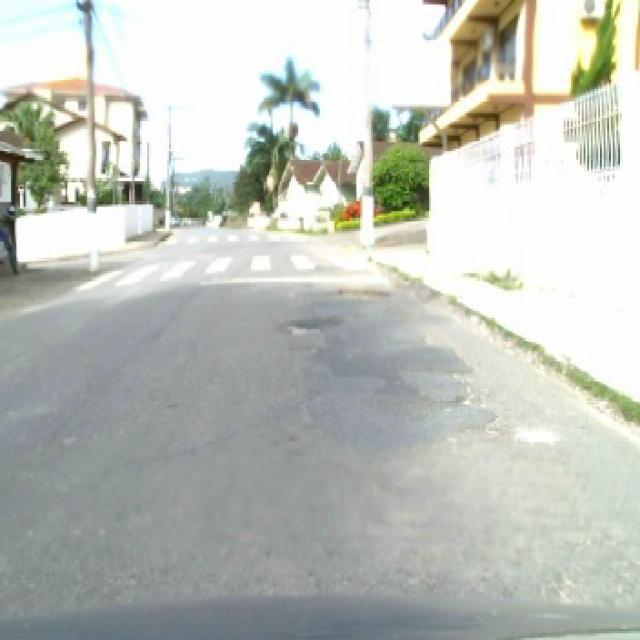Poth-hole: (420, 331, 502, 431), (275, 314, 338, 336), (306, 284, 390, 300), (511, 422, 556, 444)
